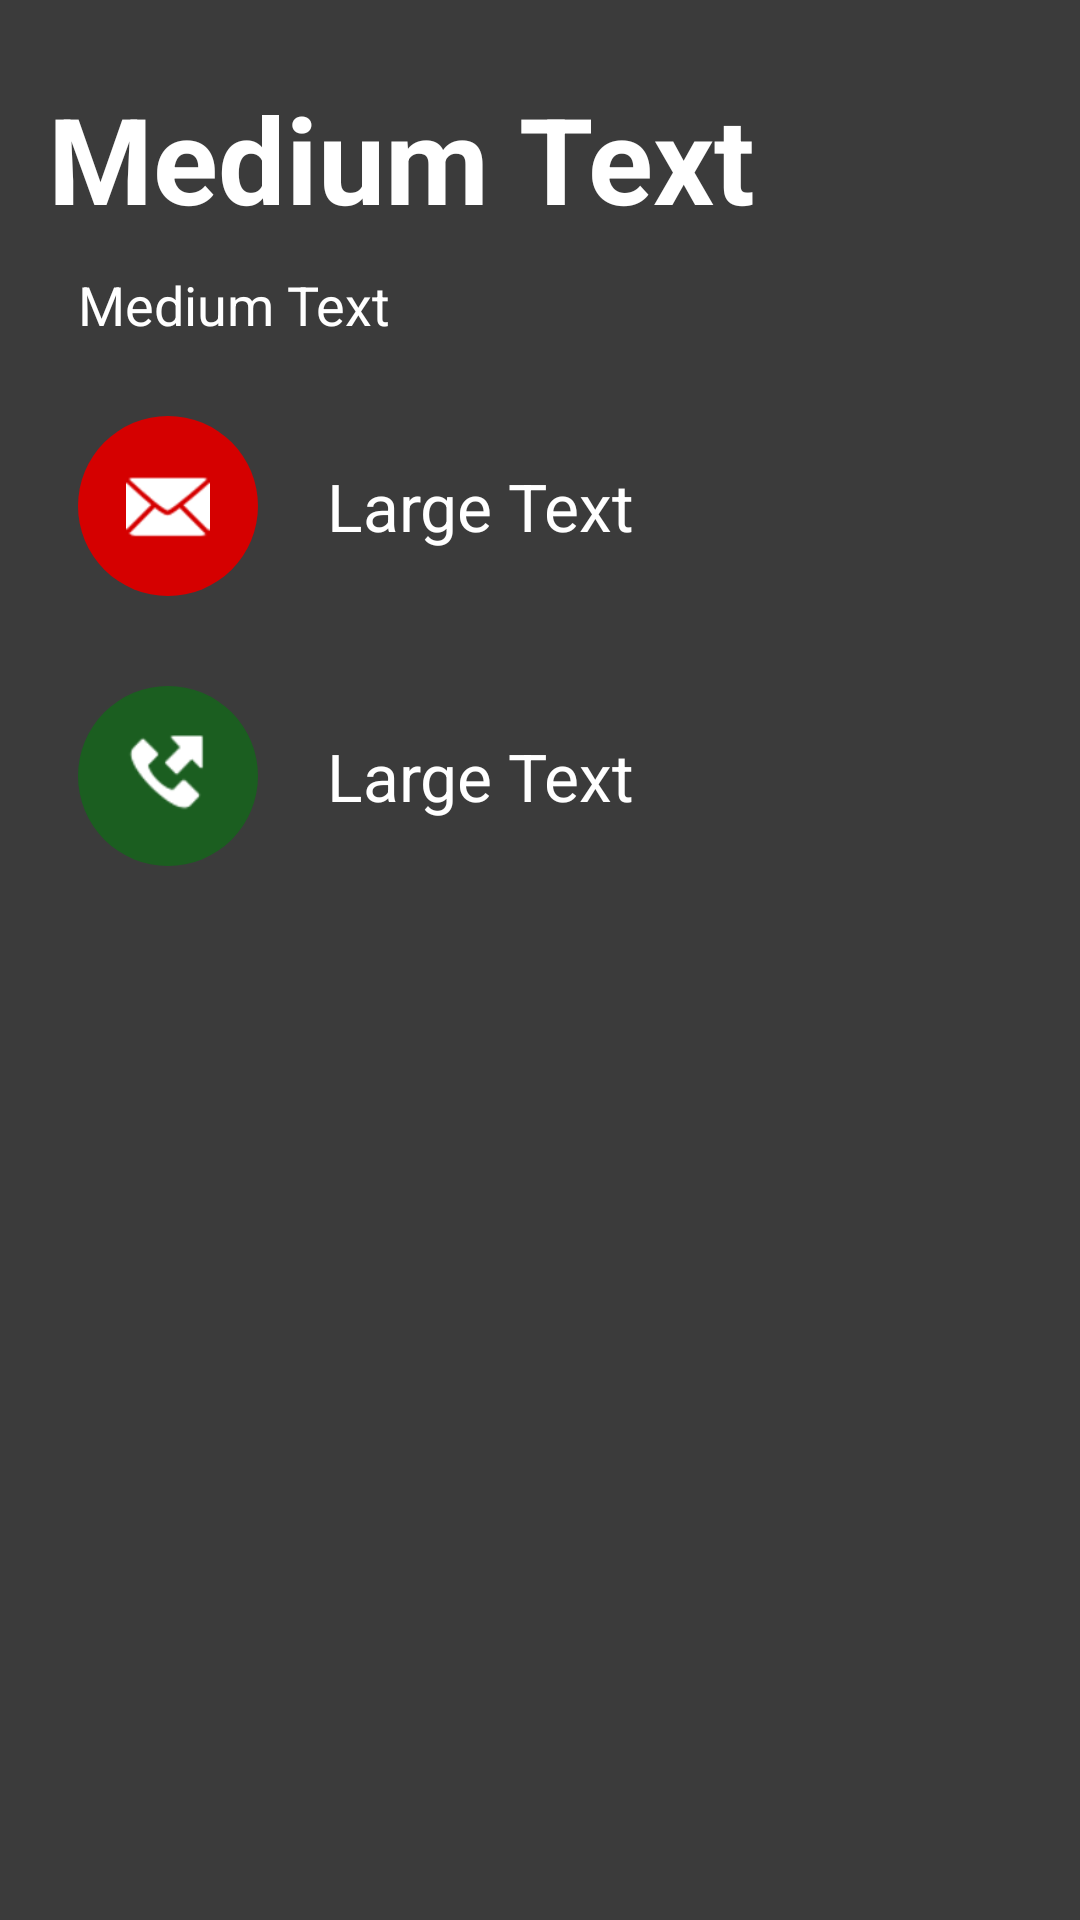

Point at icon controls on the screen. Image size 1080*1920, points as [x,y].
email: [168,506]
sym call outgoing: [168,776]
